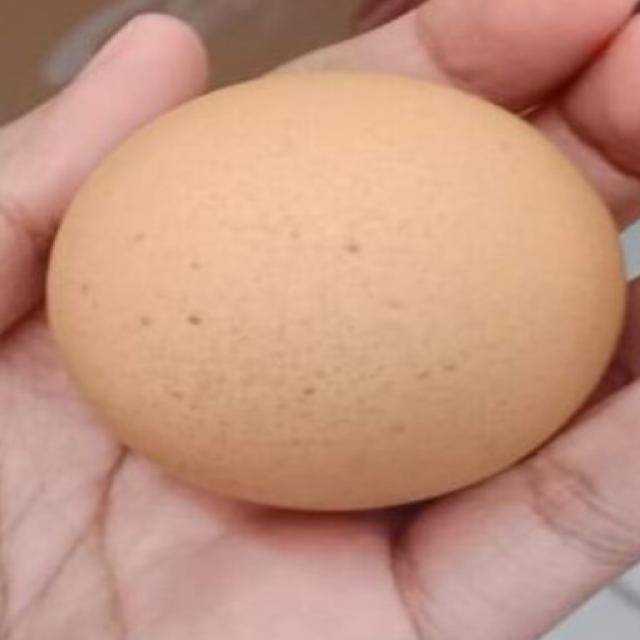unfresh: (60, 76, 632, 504)
